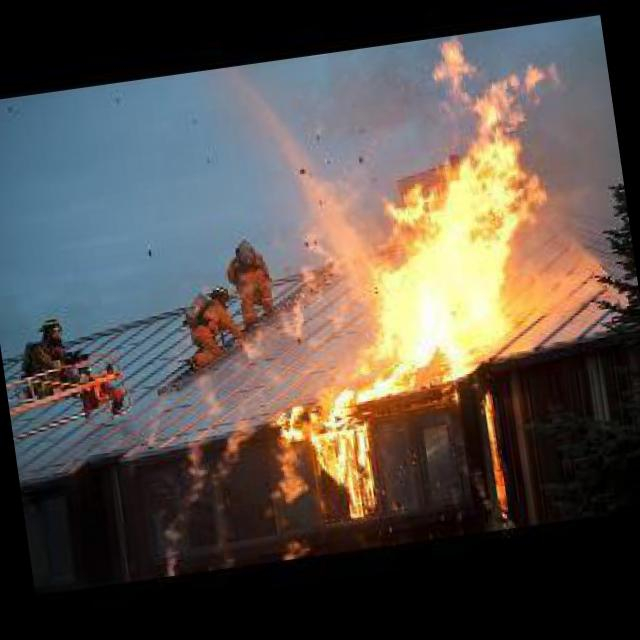fire: (318, 19, 604, 393), (262, 382, 388, 532), (478, 386, 523, 524)
smoke: (262, 176, 372, 346), (146, 440, 219, 576), (200, 392, 266, 492), (191, 363, 230, 431), (134, 395, 174, 450), (238, 322, 276, 368)
